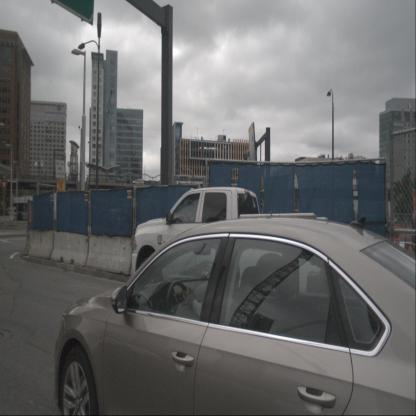movable_object-barrier: (86, 234, 134, 275), (51, 232, 90, 267), (28, 229, 56, 260)
vehicle-bus-rigid: (11, 199, 57, 222)
vehicle-car: (54, 216, 416, 416)
vehicle-truck: (132, 186, 329, 324)
